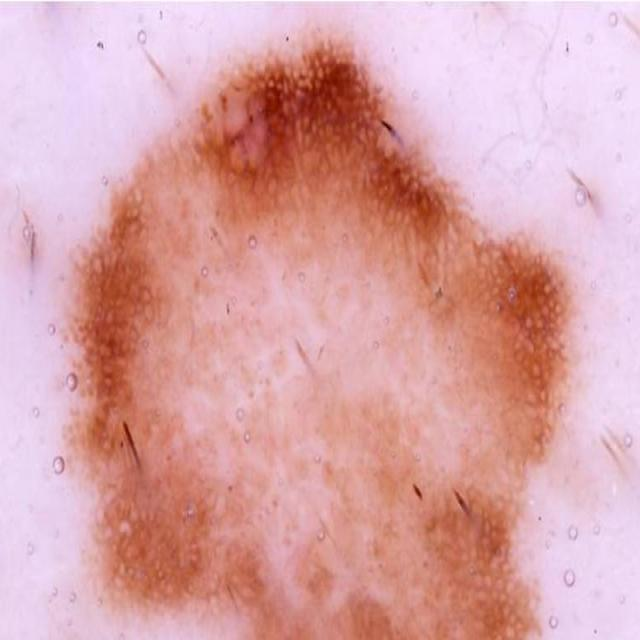Melanoma: (22, 25, 603, 640)
